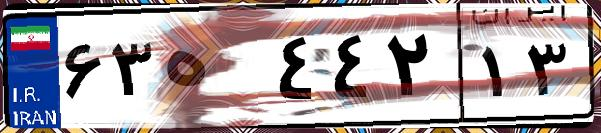1: (475, 38, 525, 113)
2: (385, 28, 445, 110)
3: (525, 38, 570, 115), (110, 28, 158, 98)
4: (270, 28, 330, 110), (330, 28, 385, 110)
6: (57, 26, 110, 100)
ه: (158, 20, 270, 120)
